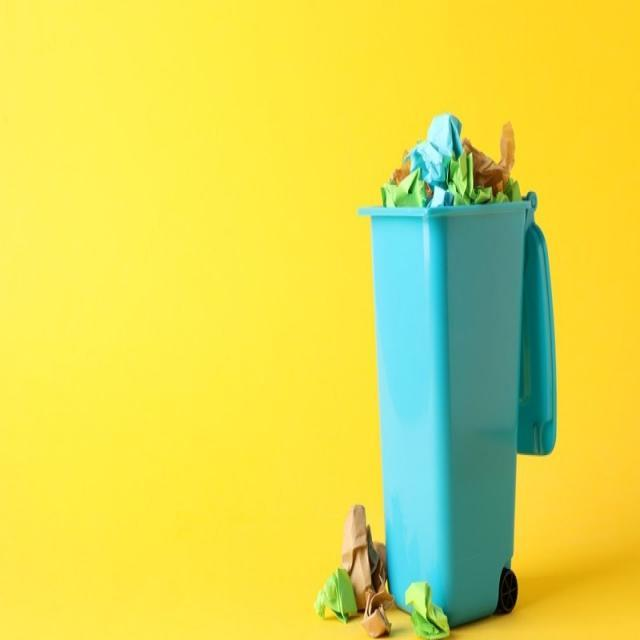Dumpster: (352, 190, 560, 630)
